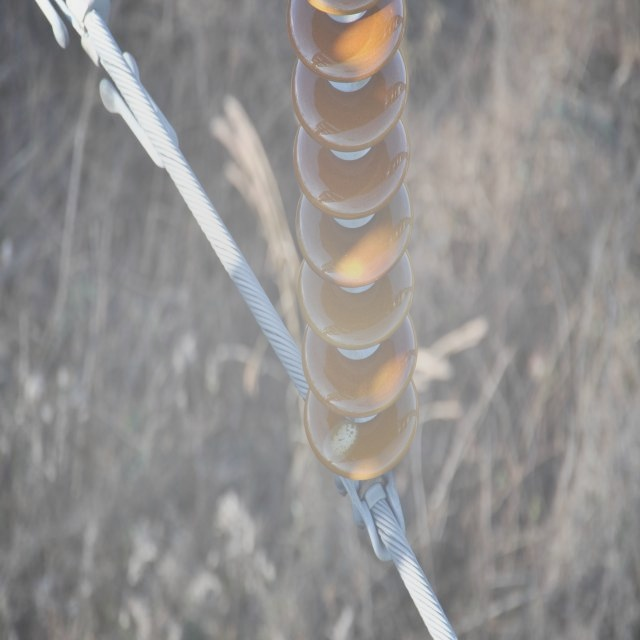insulator: (287, 0, 419, 479)
